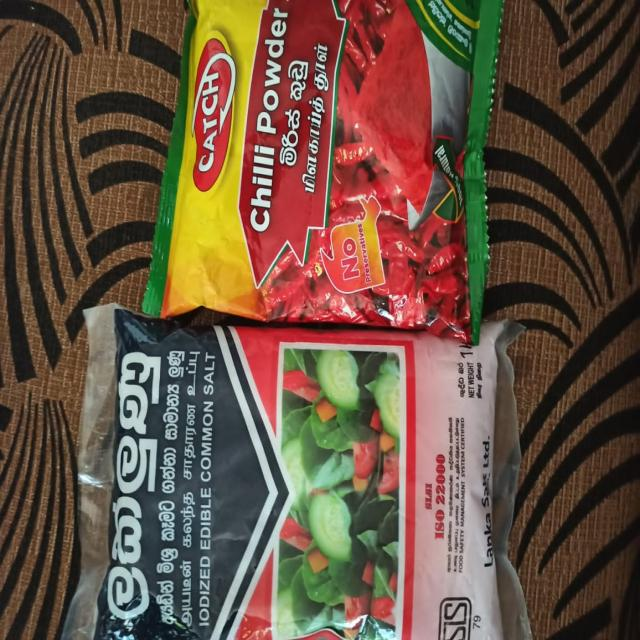Chilli Powder: (136, 0, 516, 329)
Lak Lunu: (53, 295, 493, 640)
